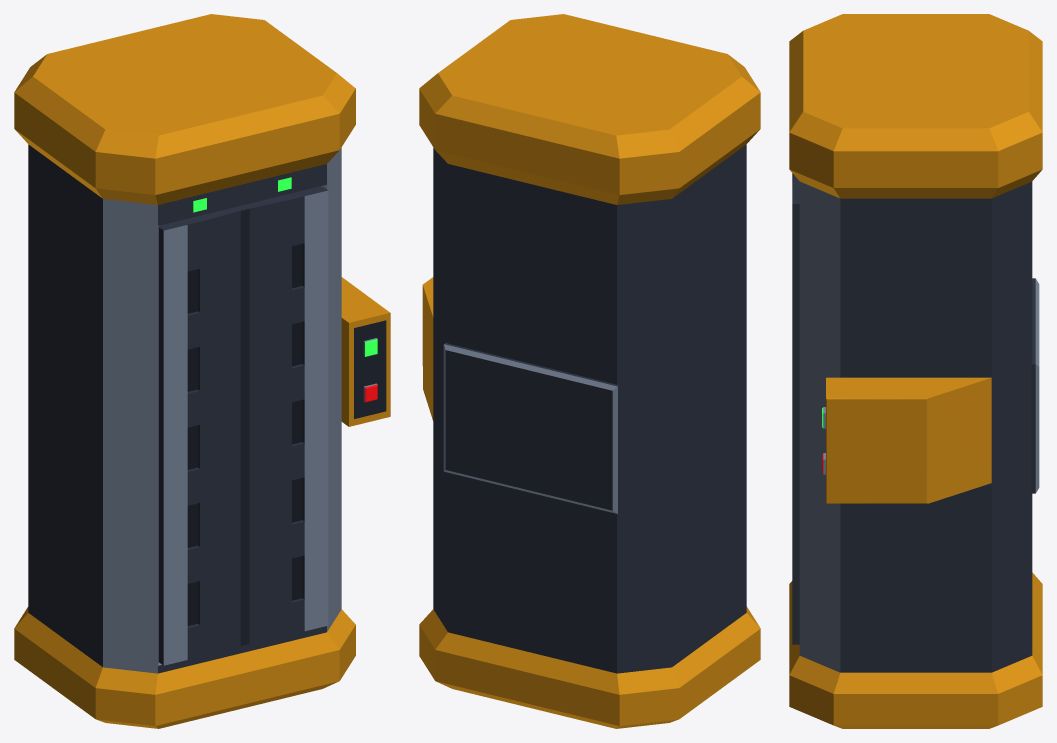
The model's file is suit_storage_v3_closed.glb.
The picture shows the model from 3 angles, left to right: view 1: azimuth 30°, elevation 25°; view 2: azimuth 150°, elevation 25°; view 3: azimuth 270°, elevation 25°; orthographic projection.
Parts seen in each view (by area): view 1: Suit_Storage_Shell, Suit_Storage_Door; view 2: Suit_Storage_Shell, Suit_Storage_Service_Hatch; view 3: Suit_Storage_Shell, Suit_Storage_Door, Suit_Storage_Service_Hatch.
Boxes of the visible parts, bbox=[...] form: Suit_Storage_Shell: bbox=[14, 14, 390, 728]; Suit_Storage_Door: bbox=[158, 186, 328, 665]; Suit_Storage_Shell: bbox=[419, 14, 760, 728]; Suit_Storage_Service_Hatch: bbox=[443, 342, 619, 513]; Suit_Storage_Shell: bbox=[789, 14, 1042, 728]; Suit_Storage_Door: bbox=[792, 173, 799, 644]; Suit_Storage_Service_Hatch: bbox=[1031, 278, 1039, 493].
Size of the model in its own units: 1.17 by 2.28 by 0.872.
